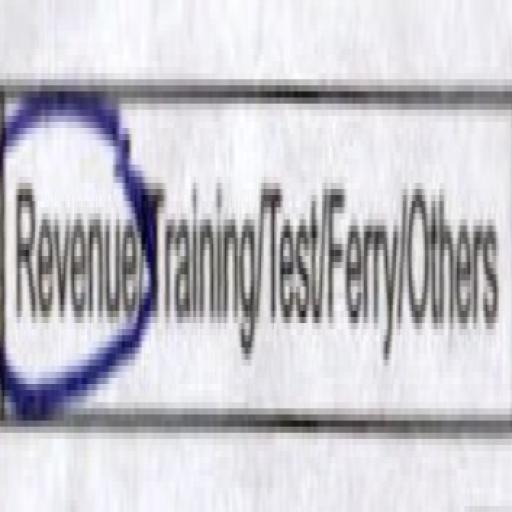check: (0, 33, 148, 512)
